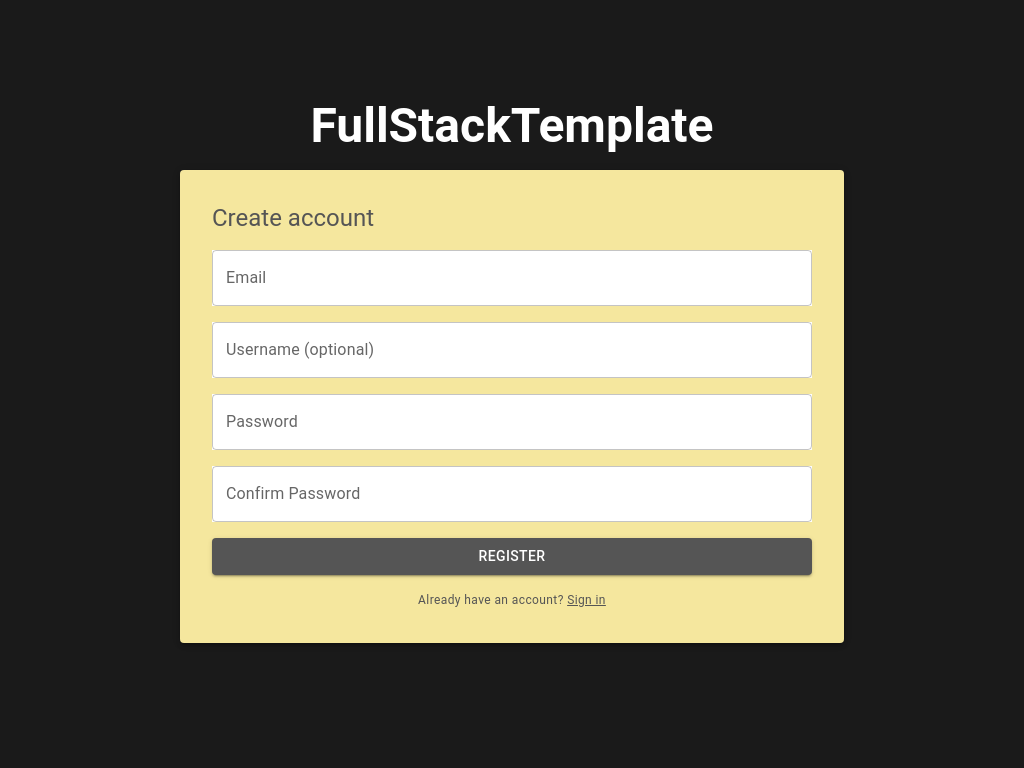
Test case: real session route lifecycle › keeps the real register success message across the session transition
Type "reader@example.com" into the field labelled "Email" at (512, 278), box [212, 250, 812, 306]
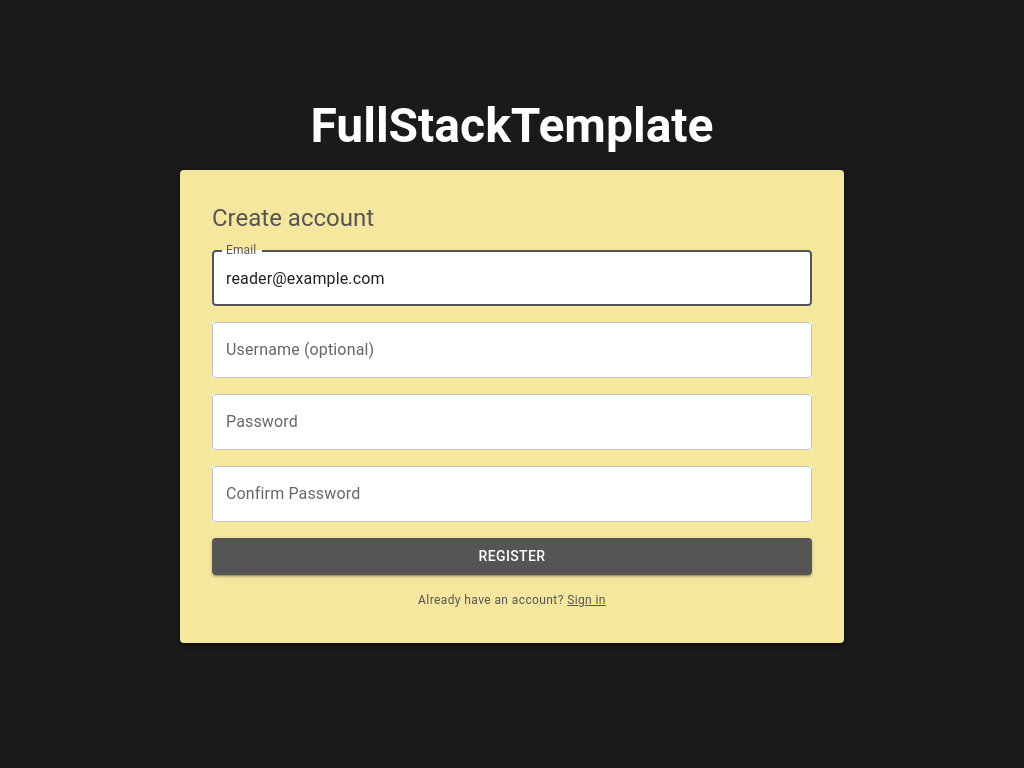
Type "password123" into the password field labelled "Password" at (512, 422), box [212, 394, 812, 450]
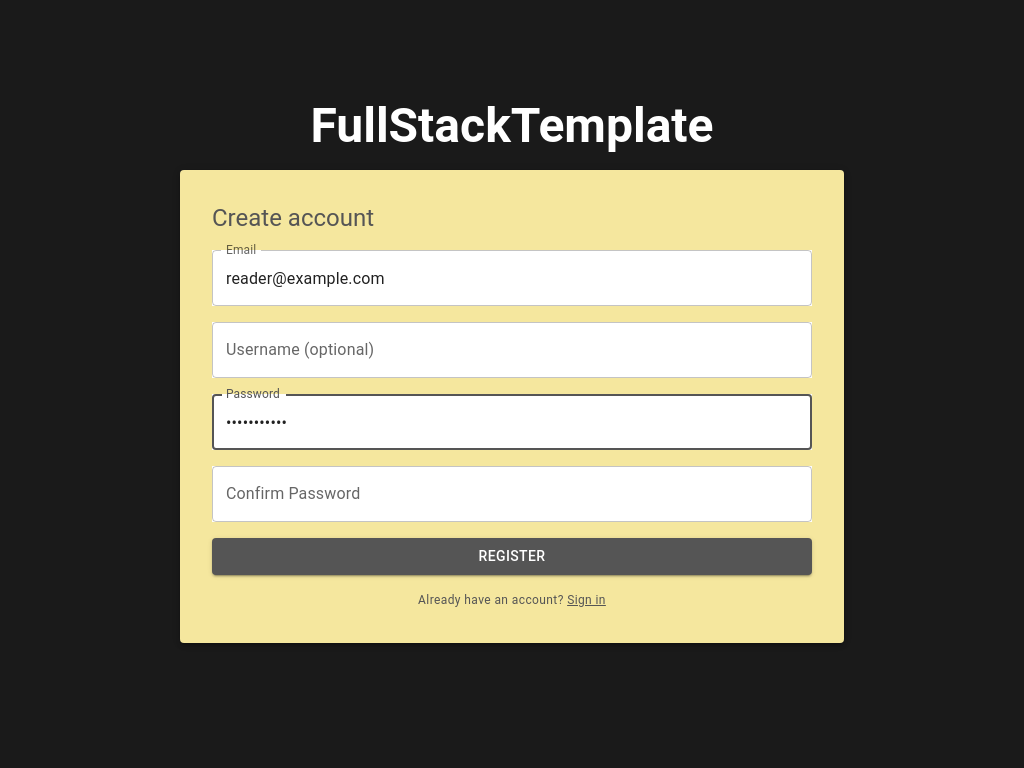
Type "Reader" into the field labelled "Username (optional)" at (512, 350), box [212, 322, 812, 378]
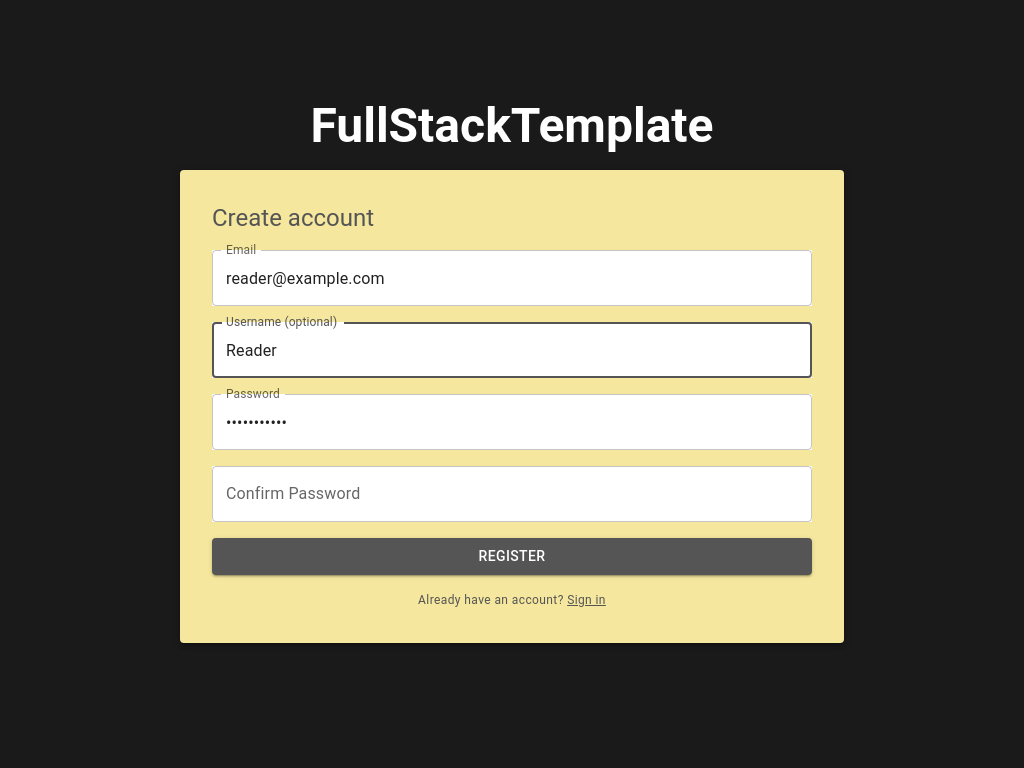
Type "password123" into the password field labelled "Confirm Password" at (512, 494), box [212, 466, 812, 522]
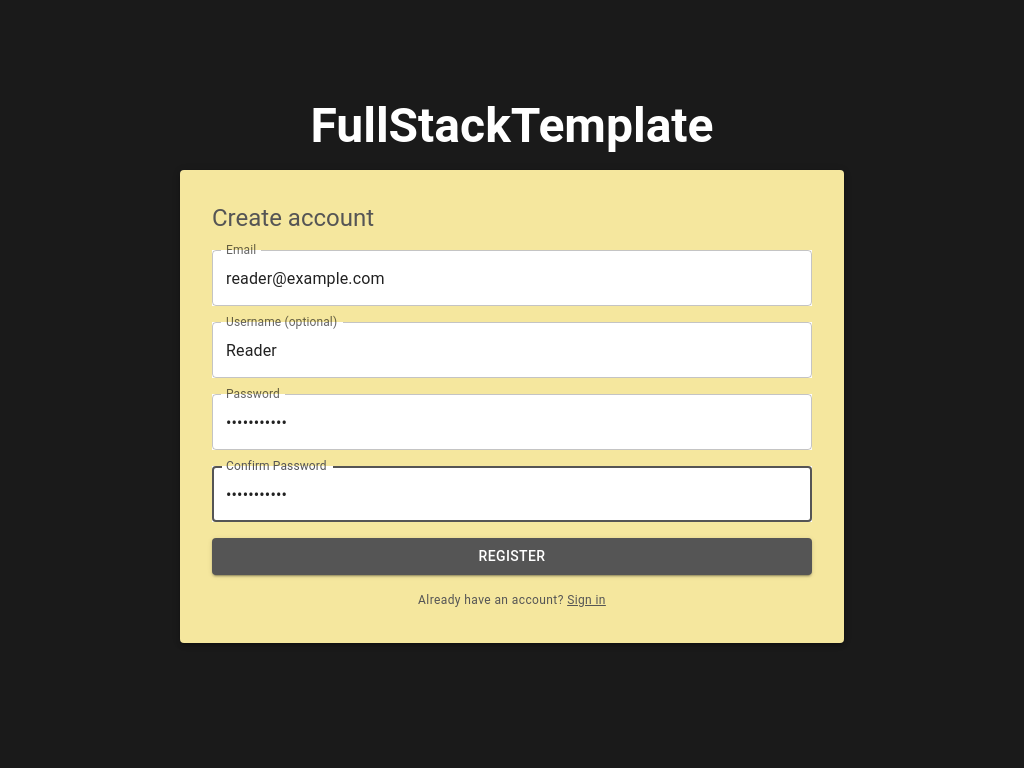
Click the button "Register" at (512, 556), box [212, 538, 812, 575]
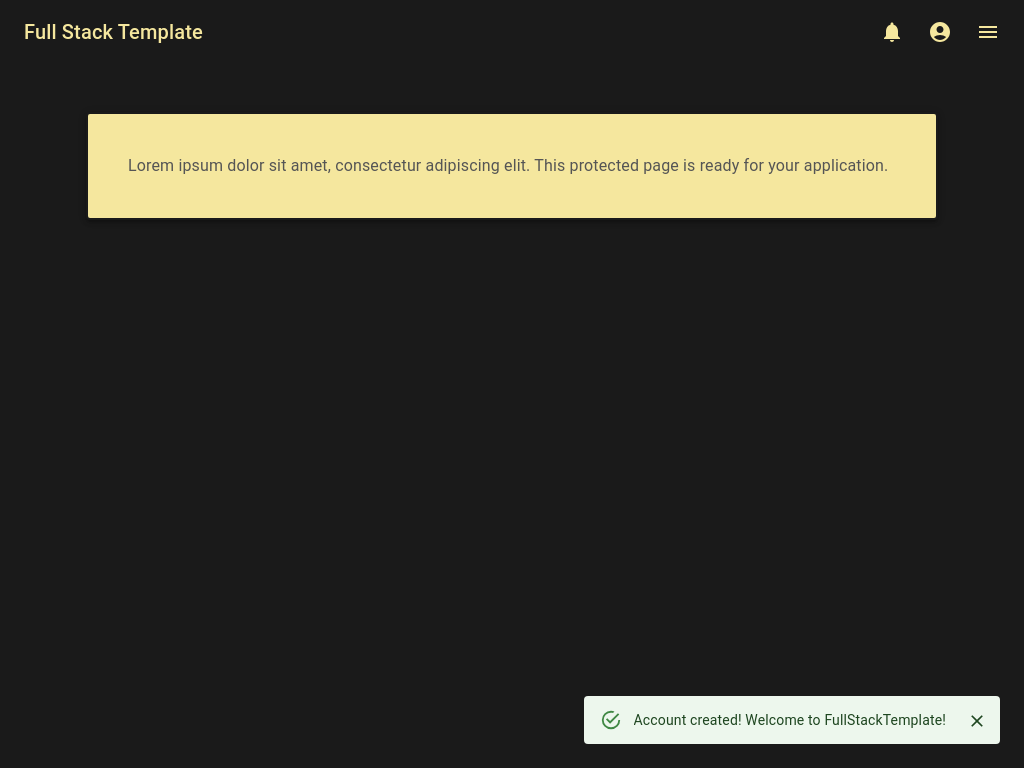
Expected: the text "Account created! Welcome to FullStackTemplate!" is shown, [634, 712, 946, 728]
Expected: the button named "user profile" is shown, [916, 8, 964, 56]
